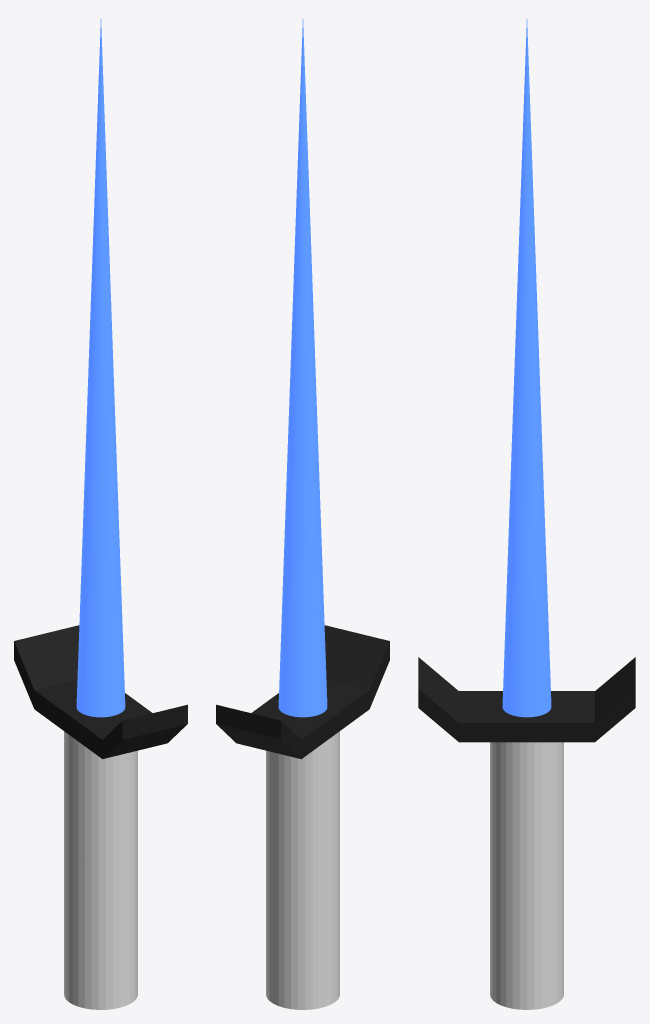
The model's file is CyberBladePlayerWIP.fbx.
3 views of the same model, side by side, from view 1: azimuth 30°, elevation 25°; view 2: azimuth 150°, elevation 25°; view 3: azimuth 270°, elevation 25° (orthographic).
Visible parts, largest first — view 1: CyberBladeBLUE; view 2: CyberBladeBLUE; view 3: CyberBladeBLUE.
Part boxes in pixels (x1=…): CyberBladeBLUE: x1=14, y1=19, x2=187, y2=1009; CyberBladeBLUE: x1=216, y1=19, x2=389, y2=1009; CyberBladeBLUE: x1=418, y1=19, x2=635, y2=1009.
Bounding box in the file's own units: 8.02 × 115 × 23.17.
